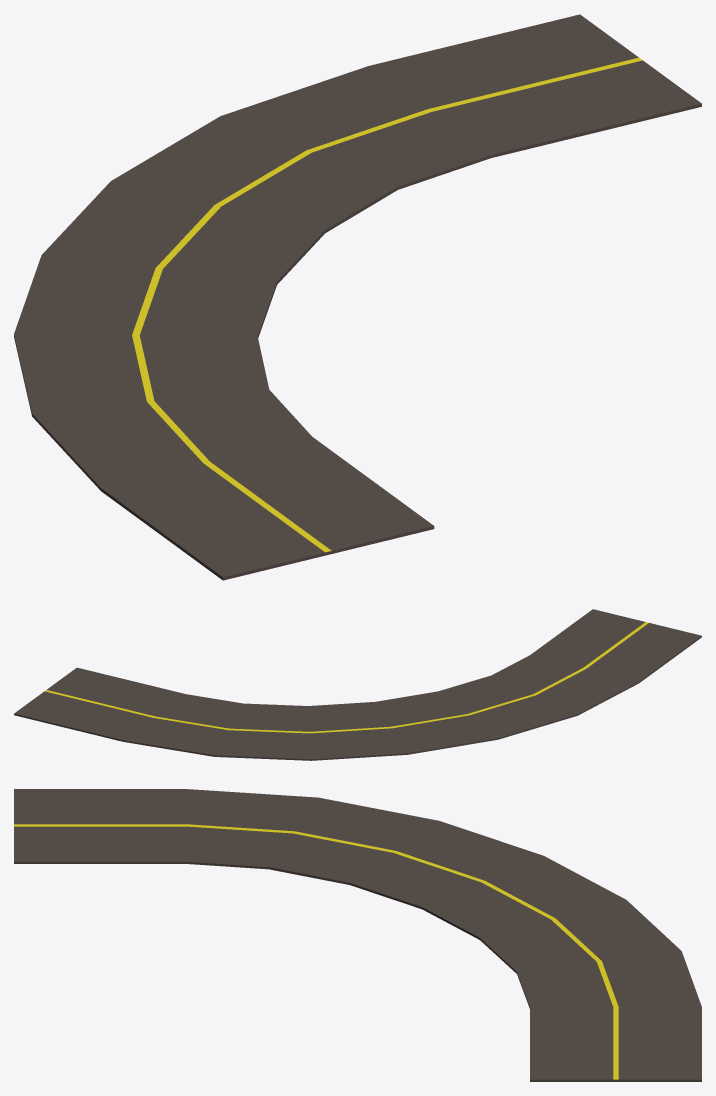
File: VirageLong.fbx
3 views of the same model, one above another, from view 1: azimuth 30°, elevation 25°; view 2: azimuth 150°, elevation 25°; view 3: azimuth 270°, elevation 25° (orthographic). The views are drawn at different scales.
Visible parts, largest first — view 1: VirageLong; view 2: VirageLong; view 3: VirageLong.
Part boxes in pixels (x1,y1,x2,y2): VirageLong: (14, 14, 701, 580); VirageLong: (14, 609, 701, 760); VirageLong: (14, 789, 701, 1081).
Bounding box in the file's own units: 2800 × 2800 × 10.
